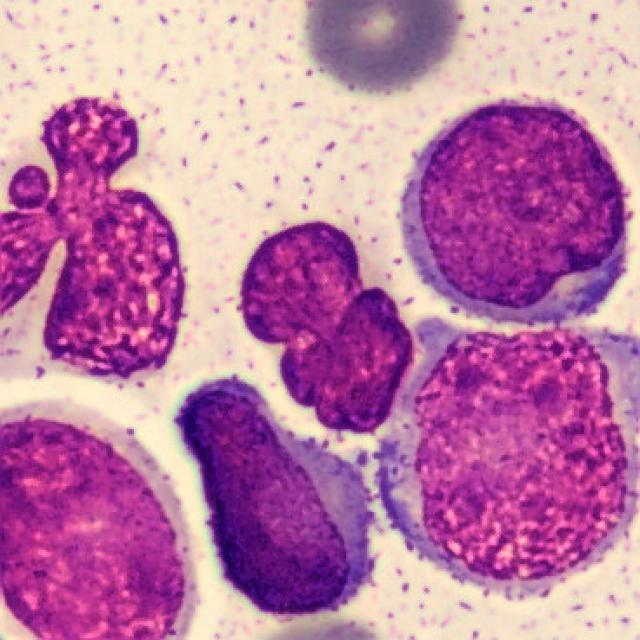Mieloblasto: (376, 318, 640, 583), (398, 100, 628, 327), (0, 401, 197, 640)
Restos celulares: (0, 97, 186, 386)
